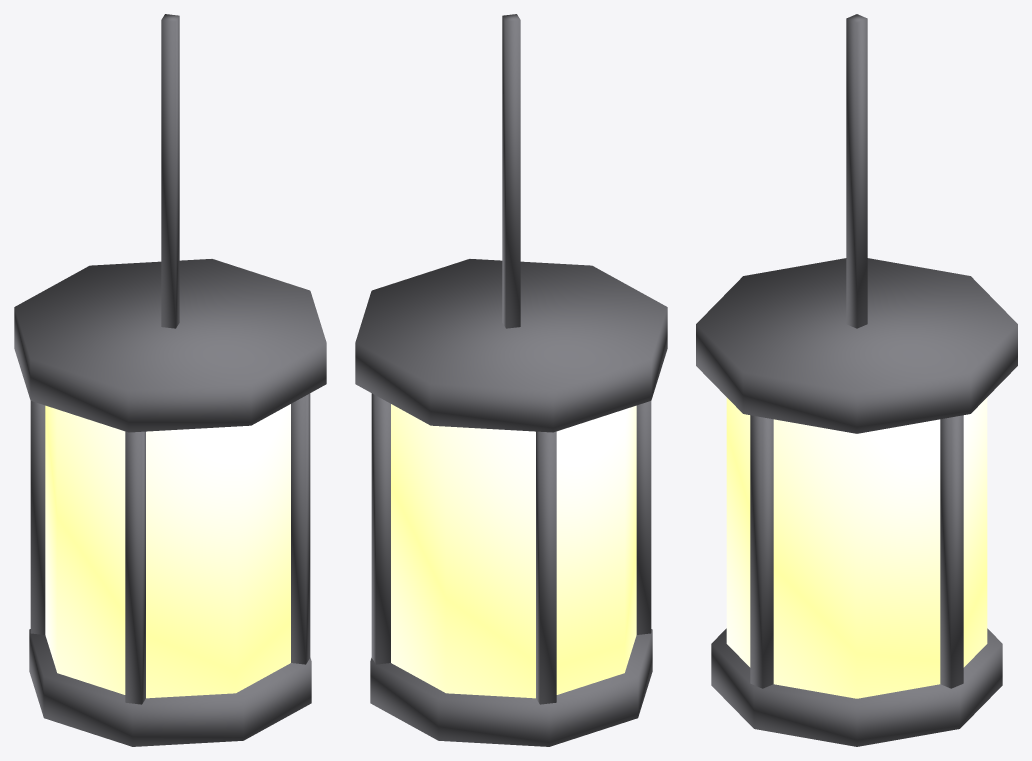
Rendered from lanterna.glb.
3 views of the same model, side by side, from view 1: azimuth 30°, elevation 25°; view 2: azimuth 150°, elevation 25°; view 3: azimuth 270°, elevation 25° (orthographic).
Visible parts, largest first — view 1: lanterna; view 2: lanterna; view 3: lanterna.
Part boxes in pixels (box(x1,y1,x2,y2)): lanterna: box(14, 14, 326, 746); lanterna: box(355, 14, 667, 746); lanterna: box(696, 14, 1017, 746).
Size of the model in its own units: 0.21 by 0.48 by 0.21.
